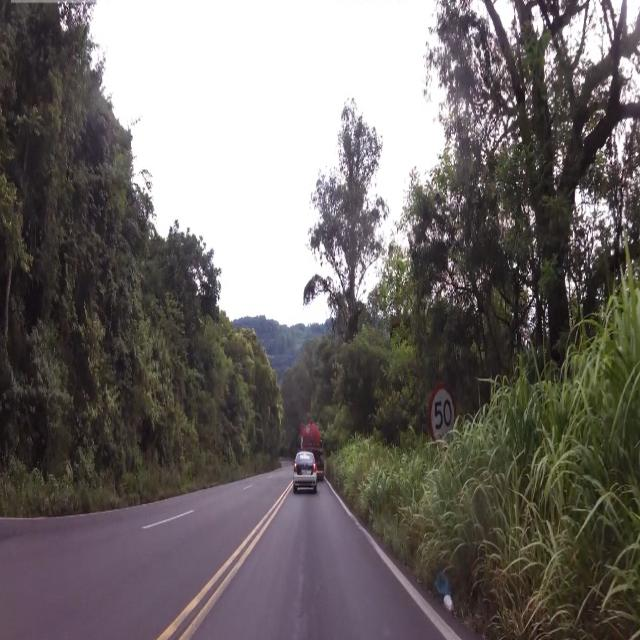R-19: (430, 384, 457, 449)
